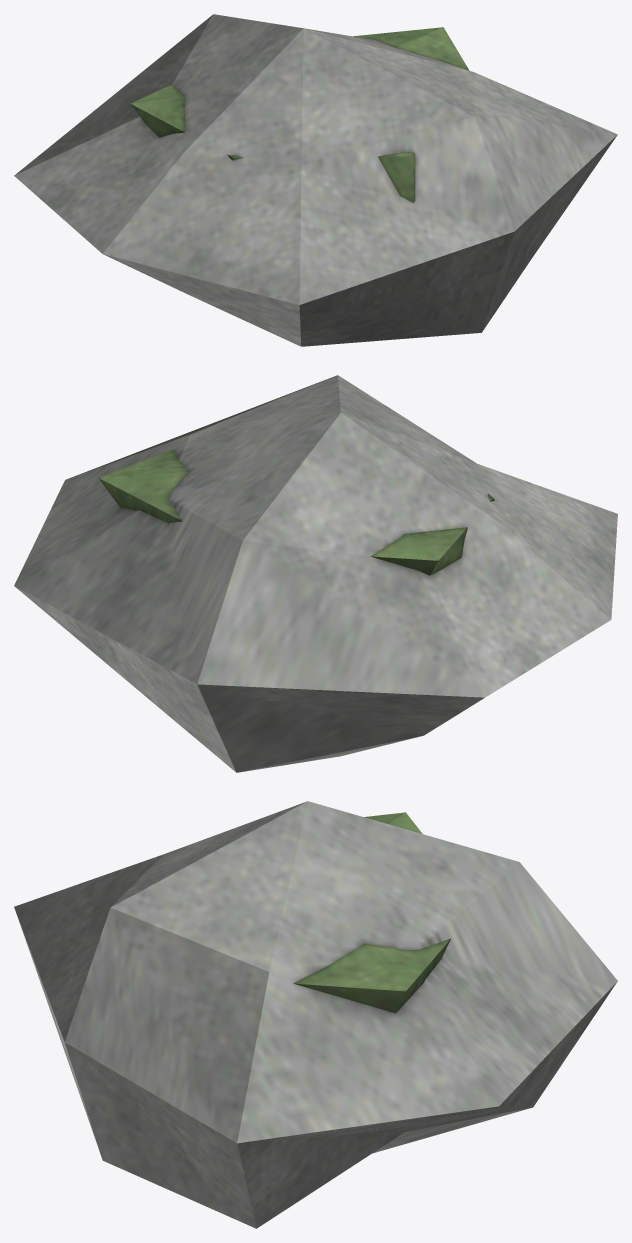
The model's file is SM_Rock_B.fbx.
3 views of the same model, one above another, from view 1: azimuth 30°, elevation 25°; view 2: azimuth 150°, elevation 25°; view 3: azimuth 270°, elevation 25° (orthographic). The views are drawn at different scales.
Parts seen in each view (by area): view 1: SM_Rock_B; view 2: SM_Rock_B; view 3: SM_Rock_B.
Part boxes in pixels (box(x1,y1,x2,y2)): SM_Rock_B: box(14, 14, 617, 346); SM_Rock_B: box(14, 375, 617, 772); SM_Rock_B: box(14, 801, 617, 1228).
Bounding box in the file's own units: 570 × 339 × 500.
1 material, 1 textured.
